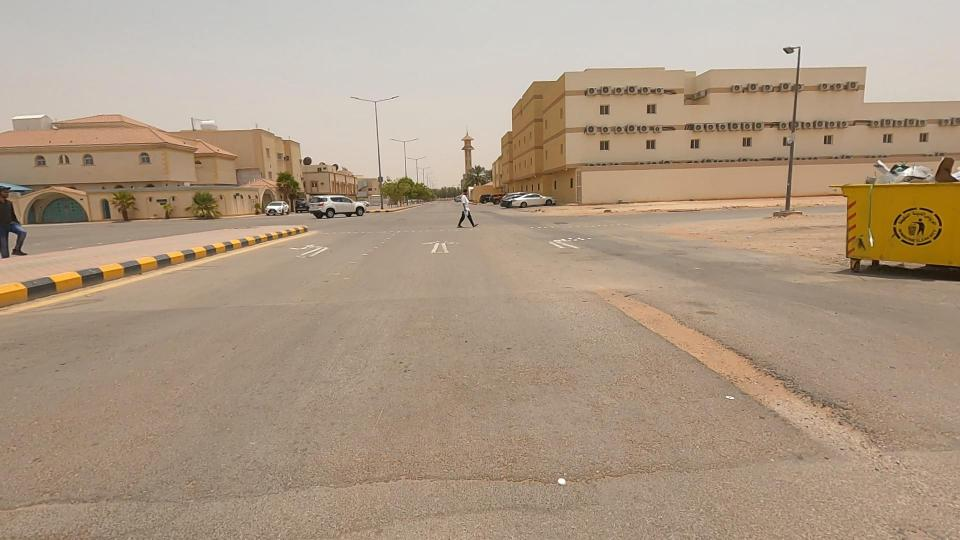GARBAGE: (806, 123, 960, 221)
